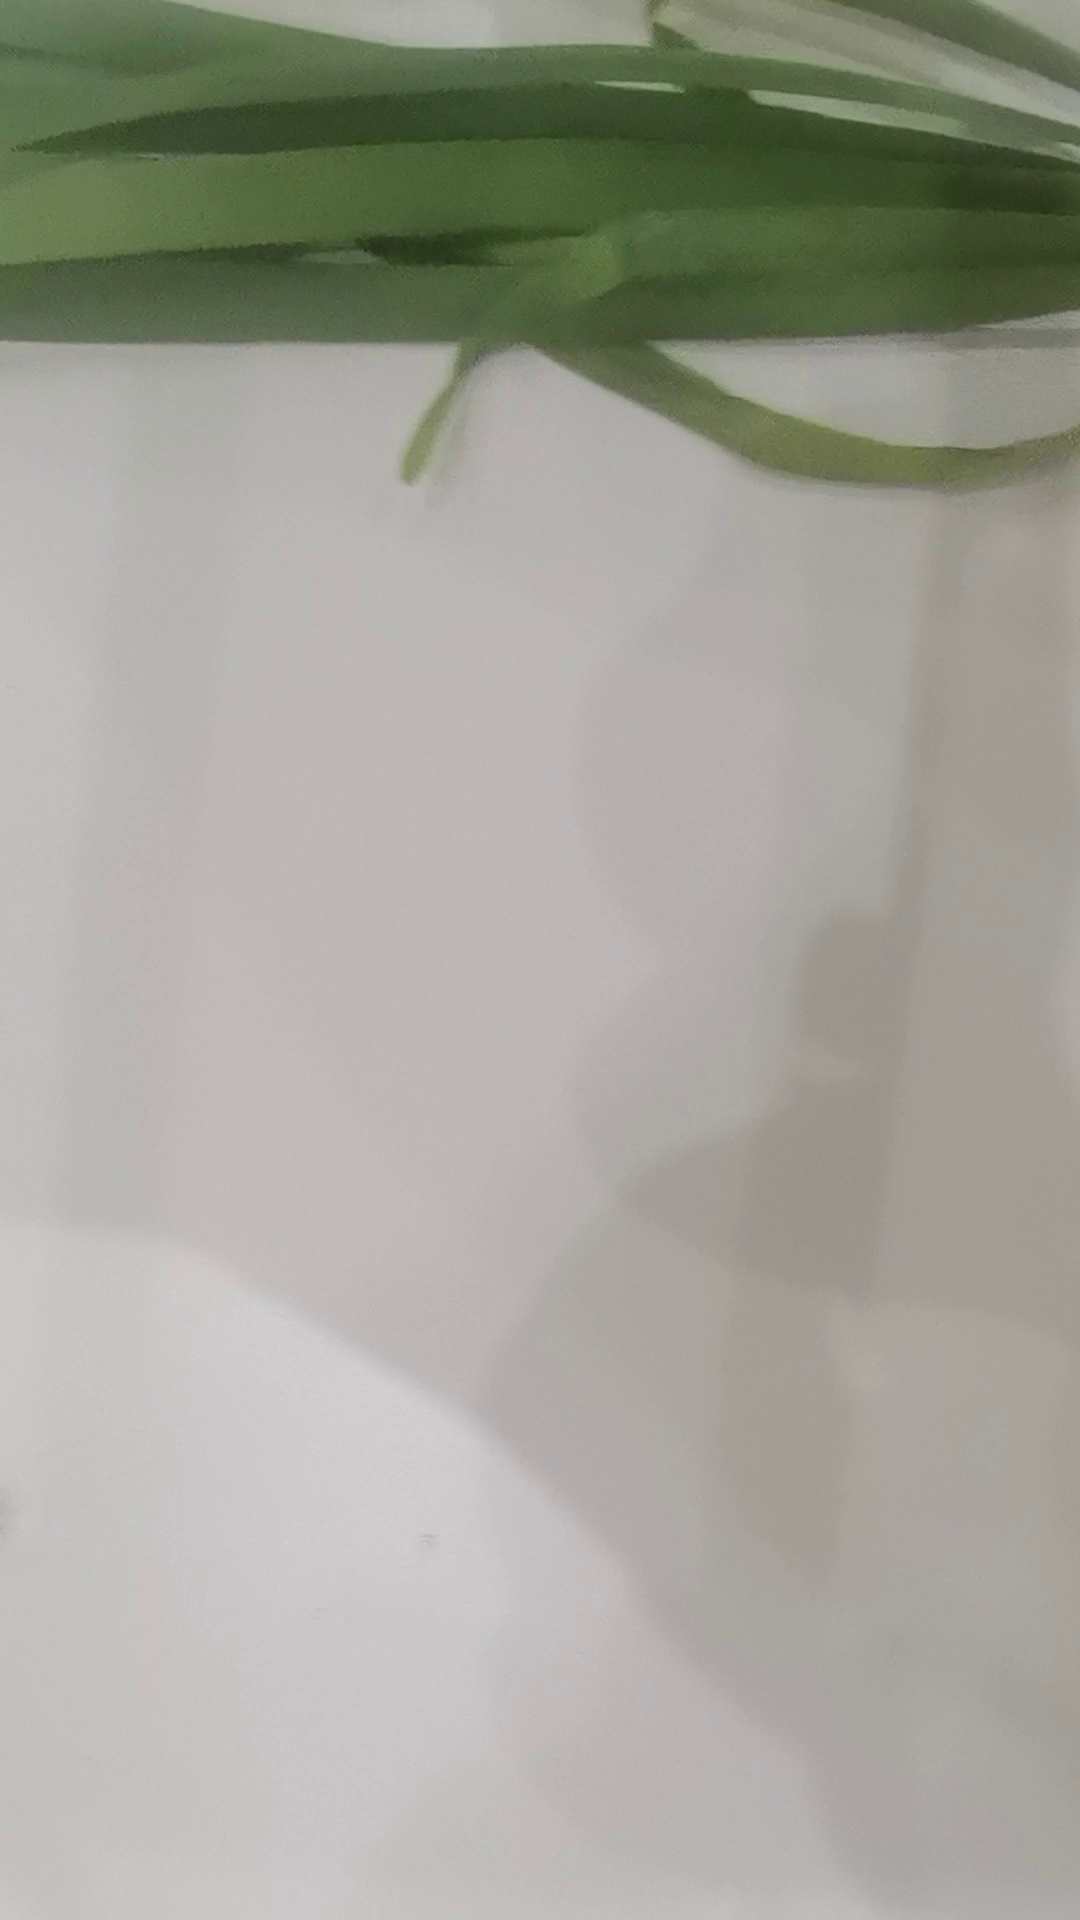chives: (1, 1, 1067, 525)
